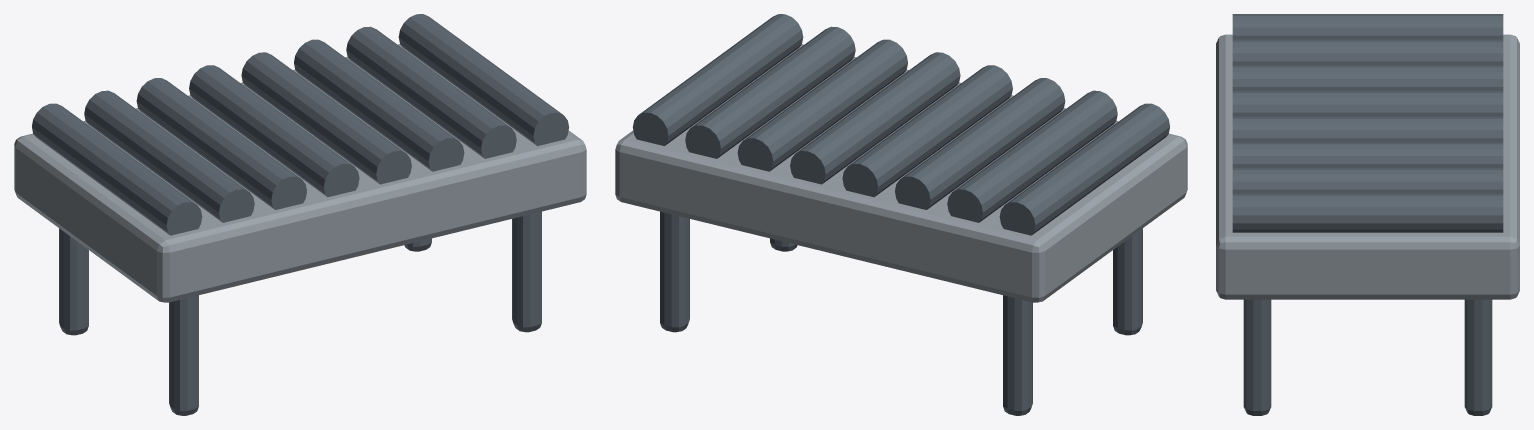
Rendered from 1_Service.fbx.
3 renders of one model, left to right at view 1: azimuth 30°, elevation 25°; view 2: azimuth 150°, elevation 25°; view 3: azimuth 270°, elevation 25°, orthographic.
Visible parts, largest first — view 1: Body; view 2: Body; view 3: Body.
Part boxes in pixels (<box>): Body: <box>14,14,586,415</box>; Body: <box>615,14,1187,415</box>; Body: <box>1216,14,1519,415</box>.
Bounding box in the file's own units: 1.8 × 0.895 × 1.1.
